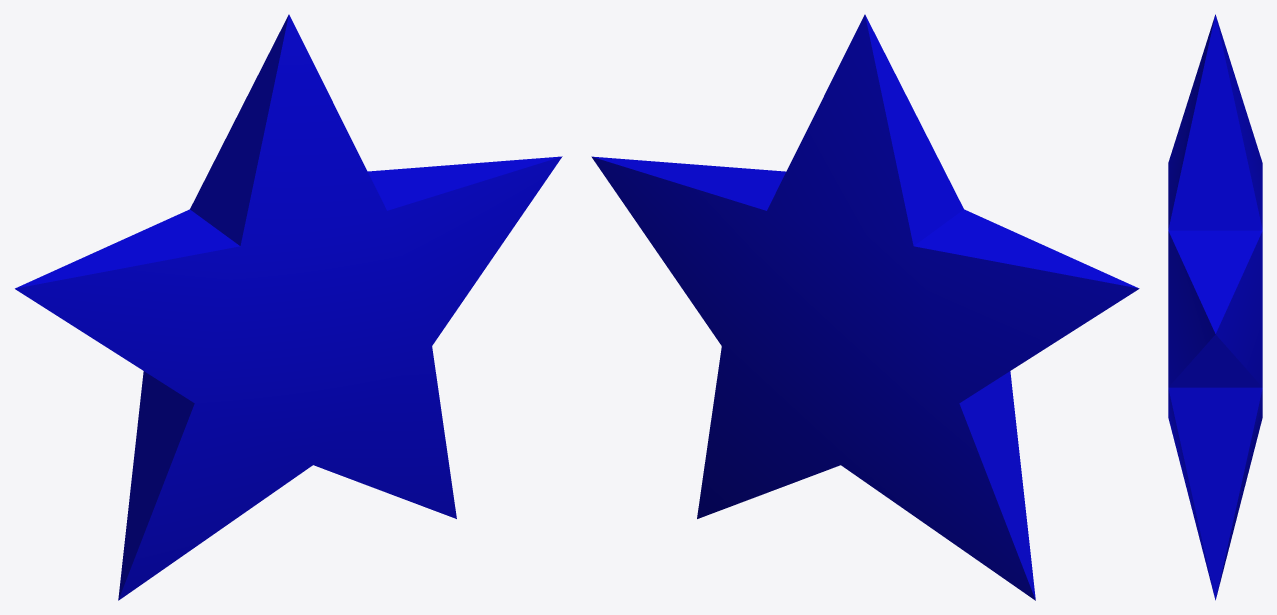
File: 060 Star.fbx
3 views of the same model, side by side, from view 1: azimuth 30°, elevation 25°; view 2: azimuth 150°, elevation 25°; view 3: azimuth 270°, elevation 25° (orthographic). The views are drawn at different scales.
Visible parts, largest first — view 1: Lowpoly_Christmas_Pack_060:pCylinder1; view 2: Lowpoly_Christmas_Pack_060:pCylinder1; view 3: Lowpoly_Christmas_Pack_060:pCylinder1.
Part boxes in pixels (<box>): Lowpoly_Christmas_Pack_060:pCylinder1: <box>15,14,562,600</box>; Lowpoly_Christmas_Pack_060:pCylinder1: <box>591,14,1139,600</box>; Lowpoly_Christmas_Pack_060:pCylinder1: <box>1168,14,1262,600</box>.
Size of the model in its own units: 2.39 by 2.28 by 0.3824.
